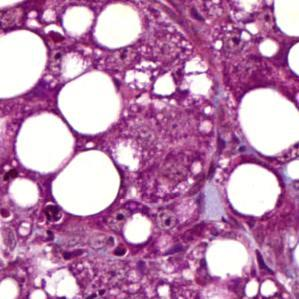steatosis: (240, 89, 299, 156), (63, 73, 126, 134), (225, 160, 284, 221), (92, 3, 146, 49)
